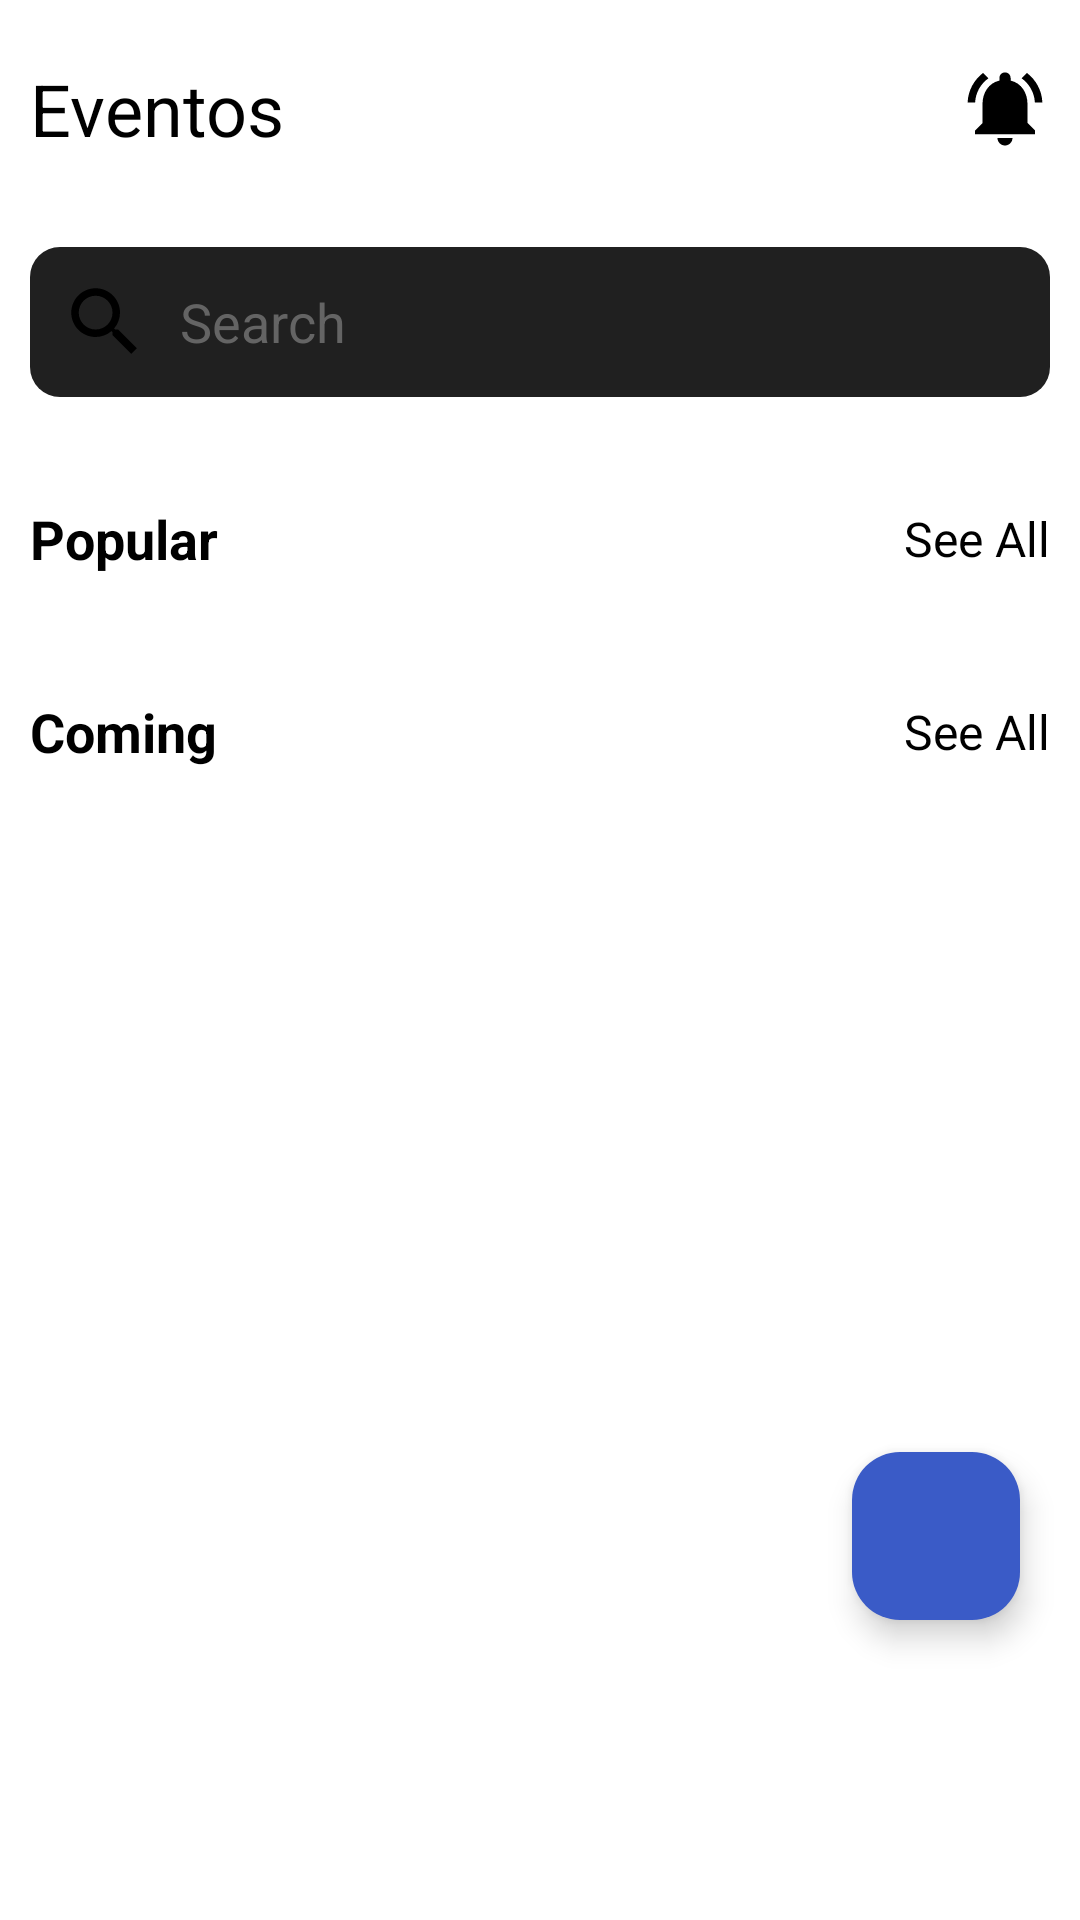

Point at icon controls on the screen. Image size 1080x1920, points as point (x, y).
notifications: point (1005, 109)
